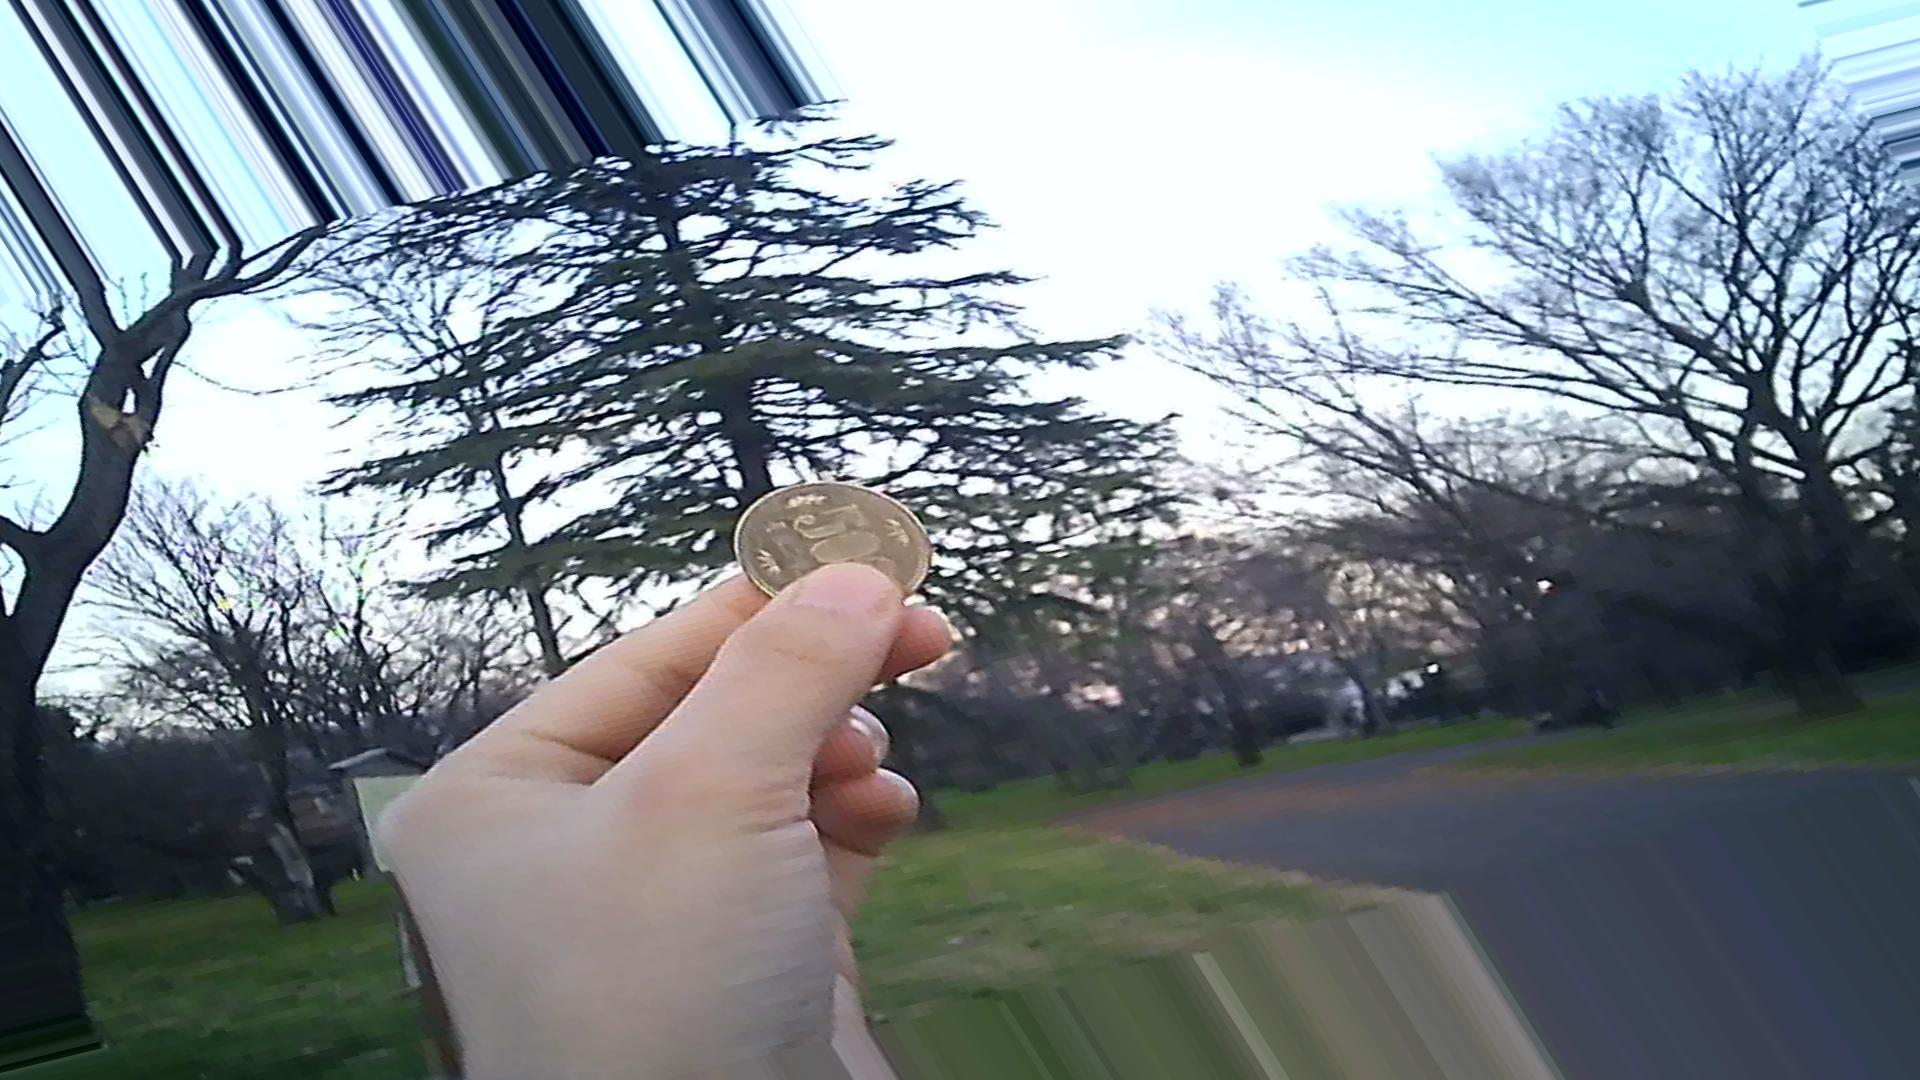500 Yen: (733, 473, 922, 603)
